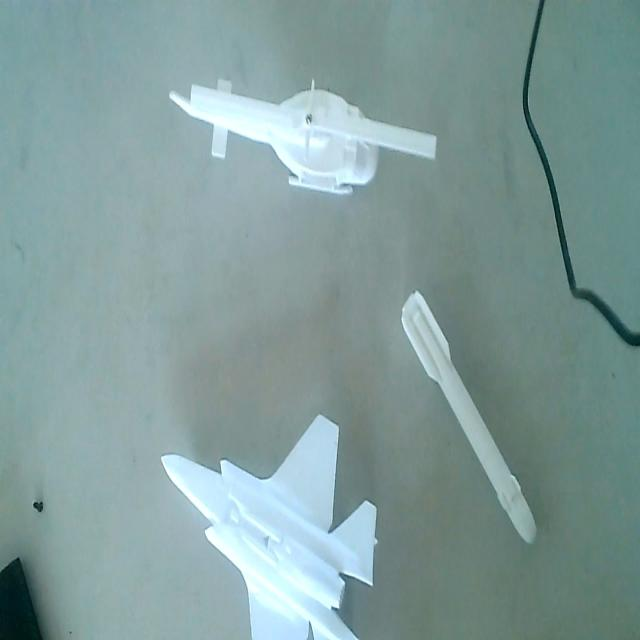Helicopter: (167, 72, 441, 206)
Jet: (155, 406, 383, 640)
Rocket: (398, 280, 542, 554)
